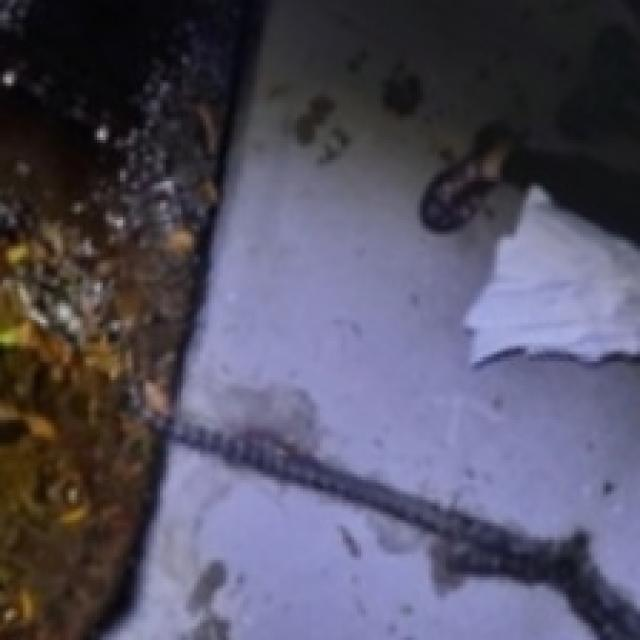king cobra: (171, 421, 640, 640)
